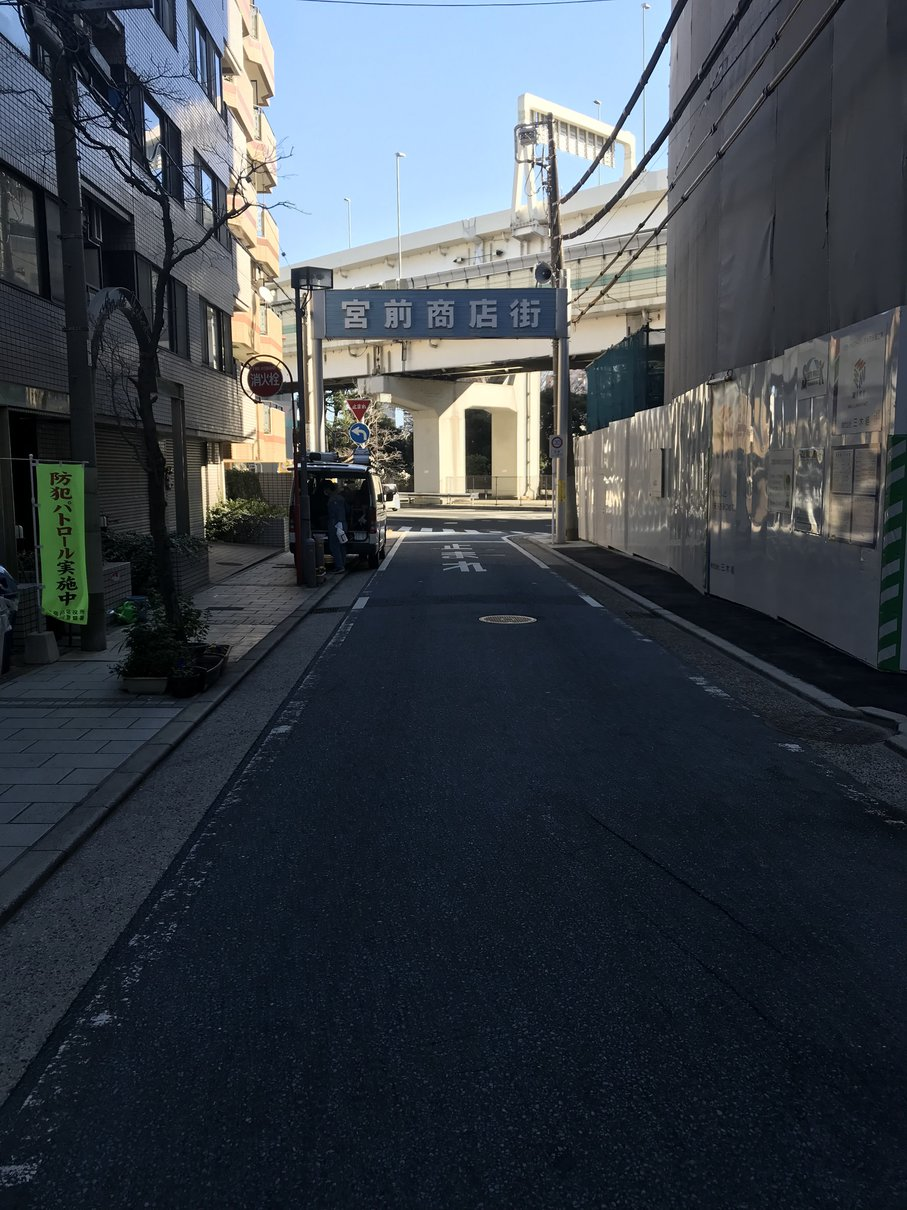stop_sign: (344, 398, 371, 419)
